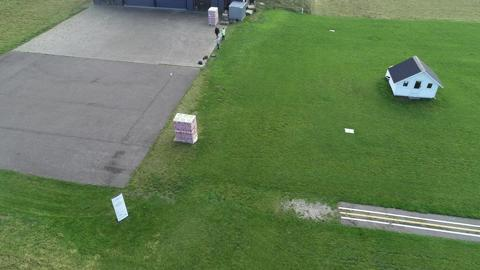RockwoolPallet: (172, 112, 199, 145)
